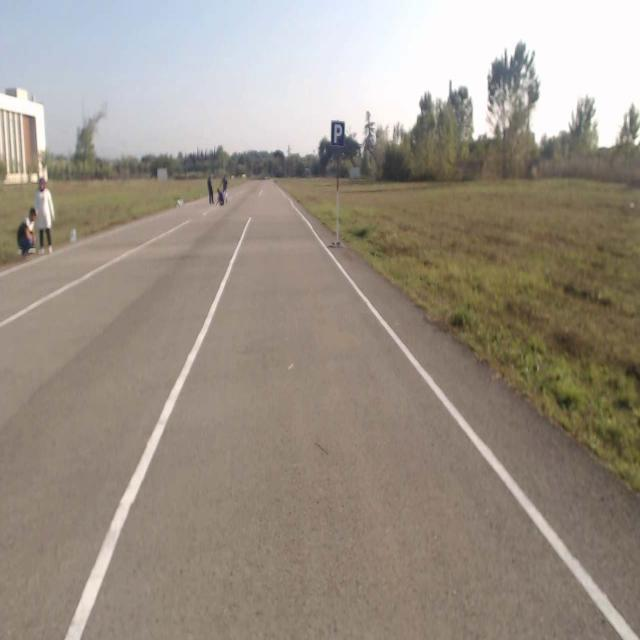park: (331, 120, 345, 148)
